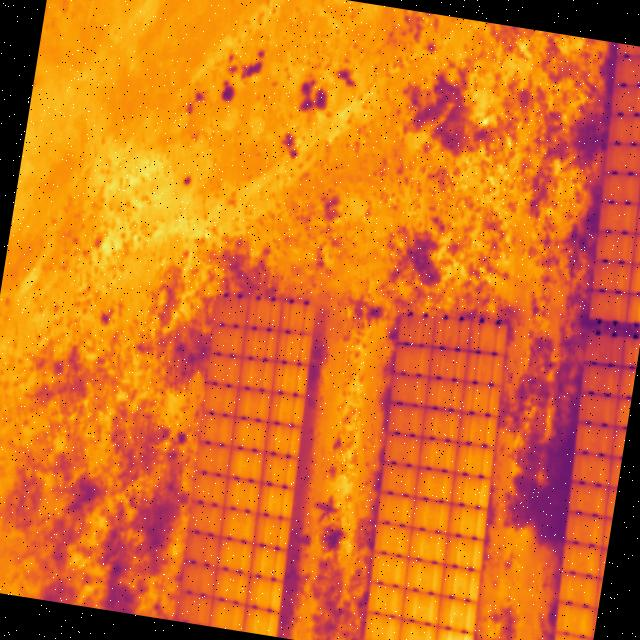Hotspot: (441, 630, 476, 640)
